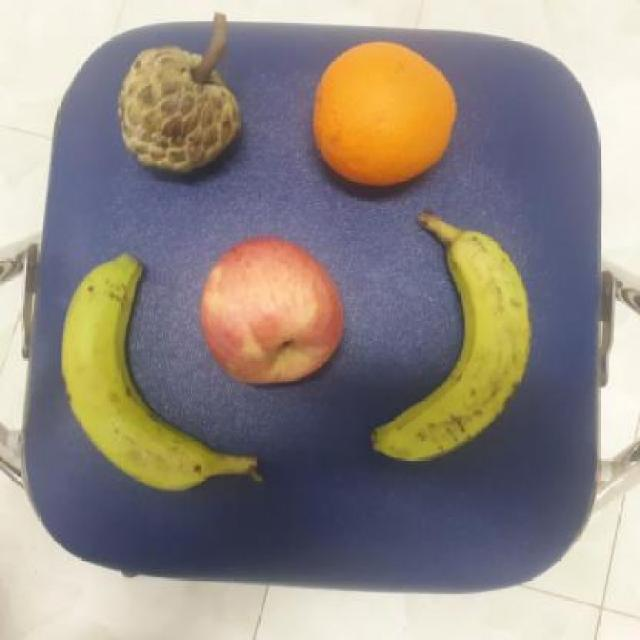apple: (199, 234, 346, 391)
banana: (57, 251, 261, 491), (373, 207, 532, 468)
oren: (310, 38, 462, 194)
sugar apple: (116, 43, 247, 172)
